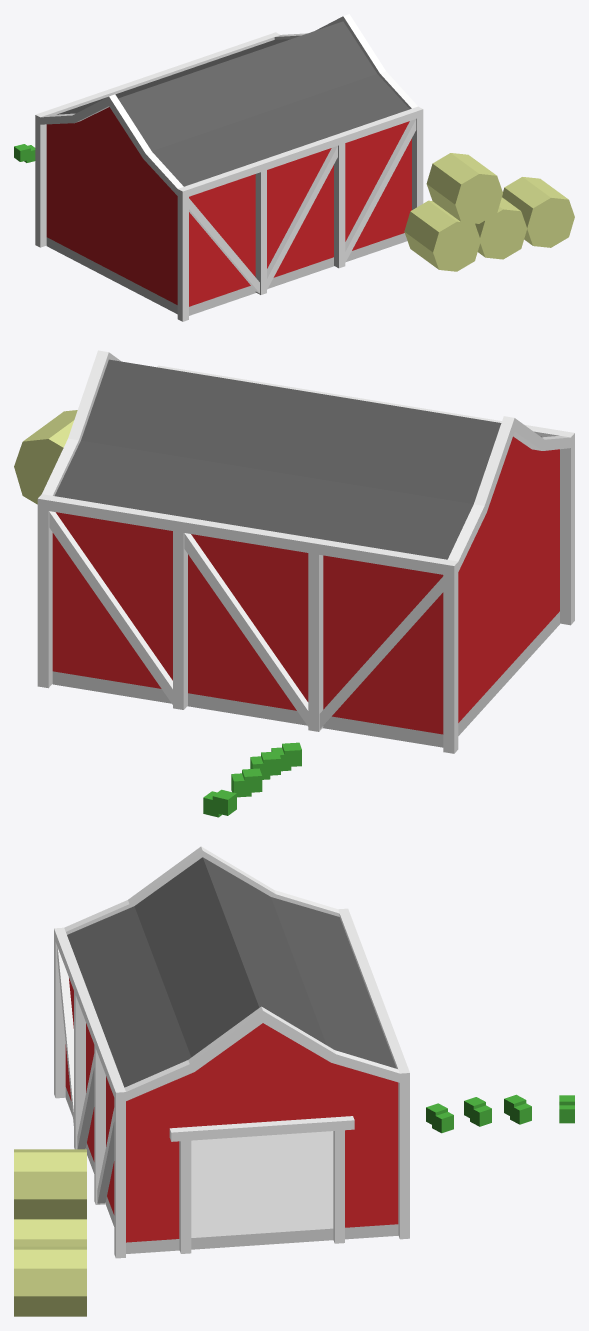
The model's file is Barn.fbx.
3 renders of one model, top to bottom at view 1: azimuth 30°, elevation 25°; view 2: azimuth 150°, elevation 25°; view 3: azimuth 270°, elevation 25°, orthographic. The views are drawn at different scales.
Visible parts, largest first — view 1: Cube.001, Cube.336, Cube.000, Plane.001, Cube.003; view 2: Cube.001, Cube.336, Cube.000, Cube.003, Plane.001, Cube.180, Cube.181, Cube.182, Cube.183; view 3: Cube.336, Cube.001, Cube.000, Cube.003, Plane.001, Cube.181, Cube.182, Cube.183.
Boxes of the visible parts, box(x1,y1,x2,y2) form: Cube.001: box(46, 107, 411, 306); Cube.336: box(57, 21, 409, 186); Cube.000: box(35, 14, 423, 321); Plane.001: box(404, 153, 574, 271); Cube.003: box(46, 233, 407, 315); Cube.001: box(52, 436, 559, 734); Cube.336: box(54, 359, 542, 559); Cube.000: box(37, 350, 574, 753); Cube.003: box(52, 611, 559, 747); Plane.001: box(14, 410, 77, 504); Cube.180: box(203, 789, 236, 817); Cube.181: box(231, 768, 262, 797); Cube.182: box(250, 751, 280, 779); Cube.183: box(271, 742, 301, 771); Cube.336: box(67, 857, 396, 1087); Cube.001: box(65, 978, 398, 1242); Cube.000: box(54, 846, 409, 1258); Cube.003: box(65, 1087, 398, 1253); Plane.001: box(14, 1149, 86, 1316); Cube.181: box(504, 1094, 531, 1124); Cube.182: box(464, 1097, 491, 1126); Cube.183: box(426, 1103, 453, 1133).
Bounding box in the file's own units: 938 × 416 × 878.
